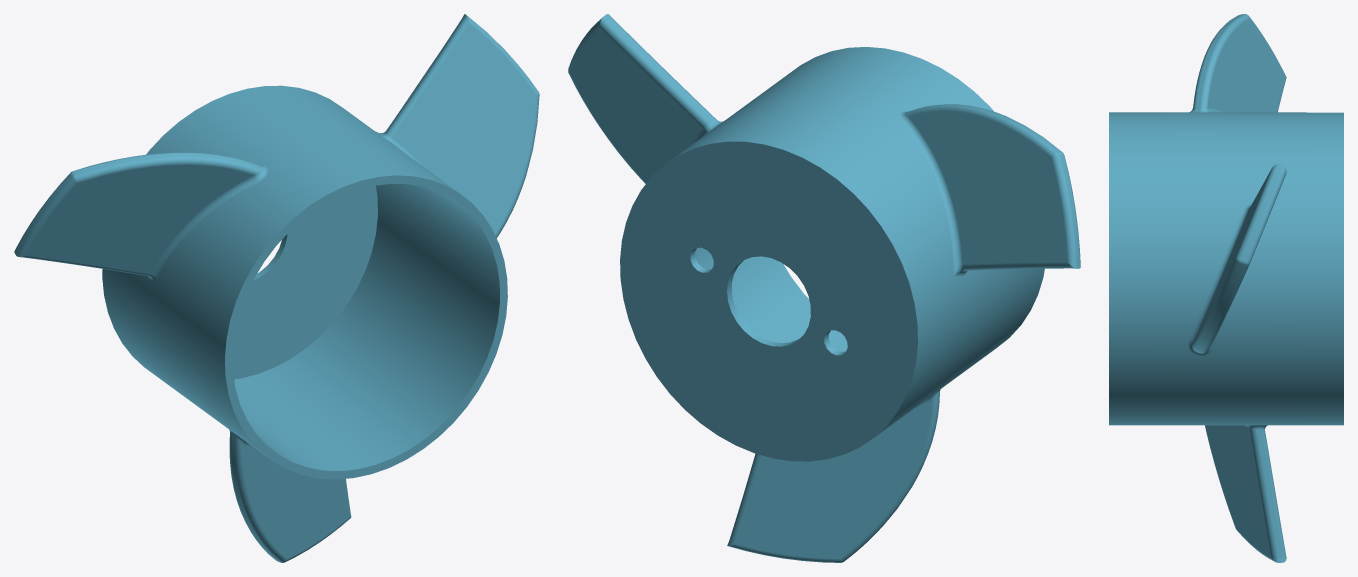
File: cw_prop.dae
3 views of the same model, side by side, from view 1: azimuth 30°, elevation 25°; view 2: azimuth 150°, elevation 25°; view 3: azimuth 270°, elevation 25° (orthographic). The views are drawn at different scales.
Parts seen in each view (by area): view 1: T200-CW; view 2: T200-CW; view 3: T200-CW.
Boxes of the visible parts, x1,y1,x2,y2 form: T200-CW: [14, 14, 539, 562]; T200-CW: [568, 14, 1080, 562]; T200-CW: [1109, 14, 1343, 562].
Bounding box in the file's own units: 0.0711 × 0.03 × 0.0653.
